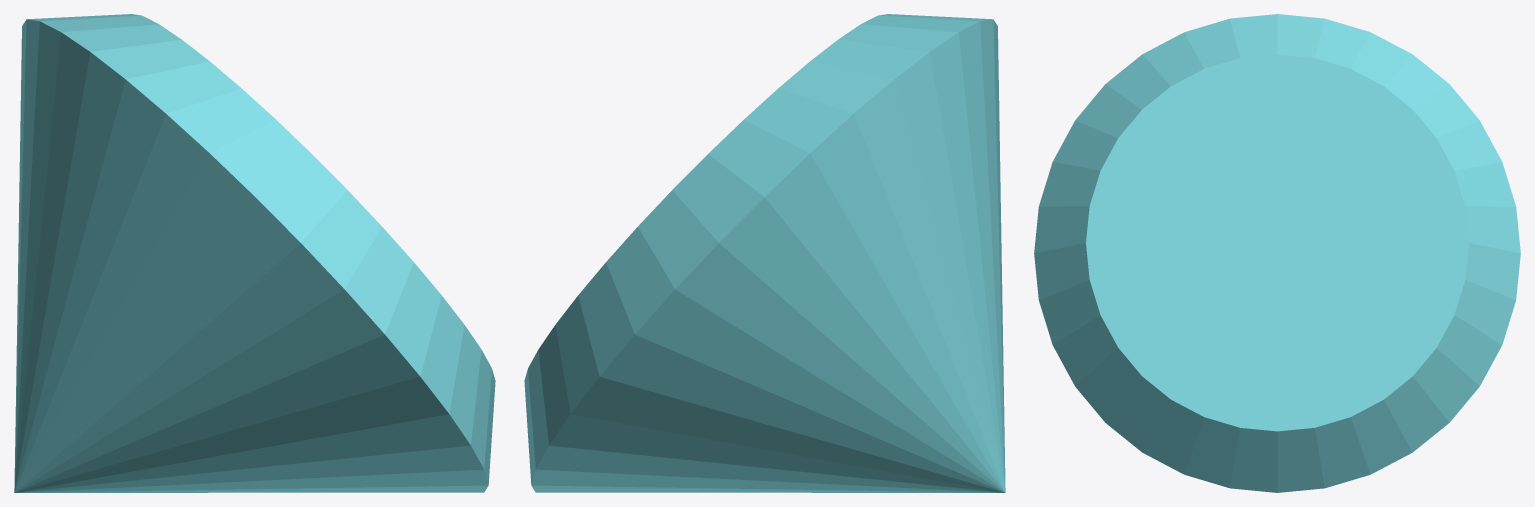
Rendered from Diamond.fbx.
3 views of the same model, side by side, from view 1: azimuth 30°, elevation 25°; view 2: azimuth 150°, elevation 25°; view 3: azimuth 270°, elevation 25° (orthographic). The views are drawn at different scales.
Visible parts, largest first — view 1: Diamond.001; view 2: Diamond.001; view 3: Diamond.001.
Boxes of the visible parts, x1=… form: Diamond.001: x1=14, y1=14, x2=495, y2=492; Diamond.001: x1=524, y1=14, x2=1005, y2=492; Diamond.001: x1=1034, y1=14, x2=1520, y2=492.
Bounding box in the file's own units: 30.27 × 33.05 × 40.48.
